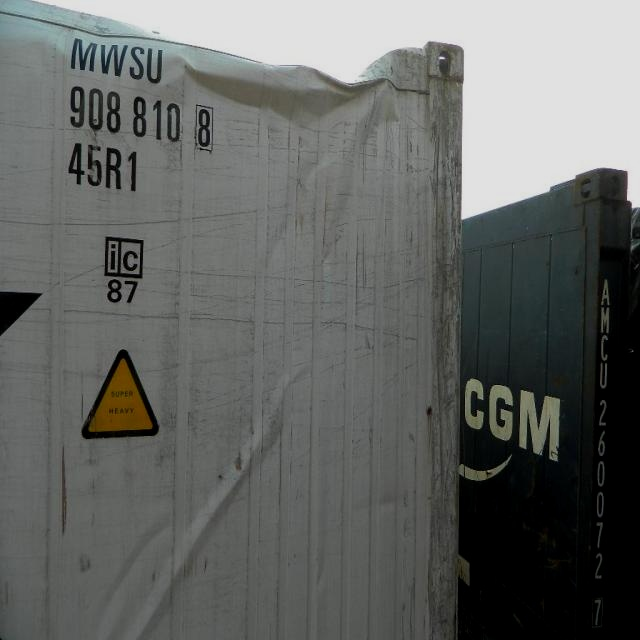Dent: (81, 361, 312, 640), (173, 86, 403, 157), (208, 39, 418, 101)
